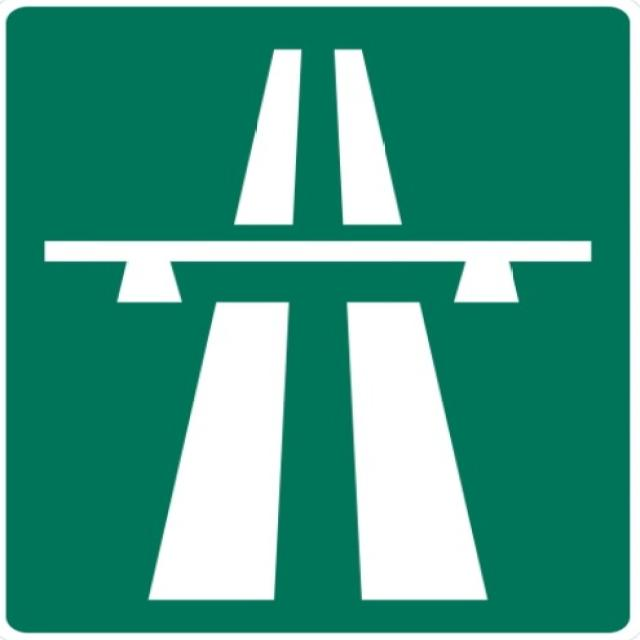highway_entrance: (9, 6, 632, 635)
